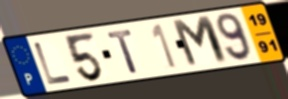1: (150, 22, 179, 70)
5: (62, 31, 105, 83)
9: (214, 12, 254, 63)
L: (32, 40, 74, 87)
M: (169, 14, 232, 70)
T: (106, 28, 141, 75)
